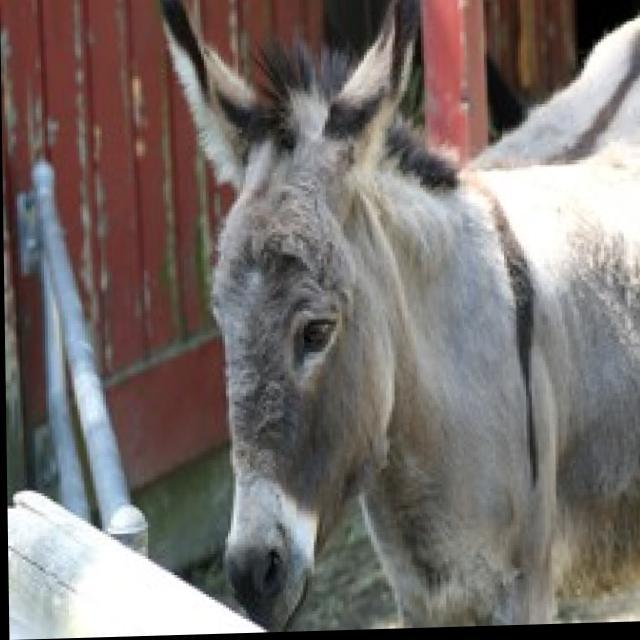Donkey: (157, 0, 640, 633)
